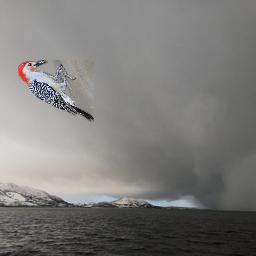Woodpecker: (18, 60, 94, 122)
